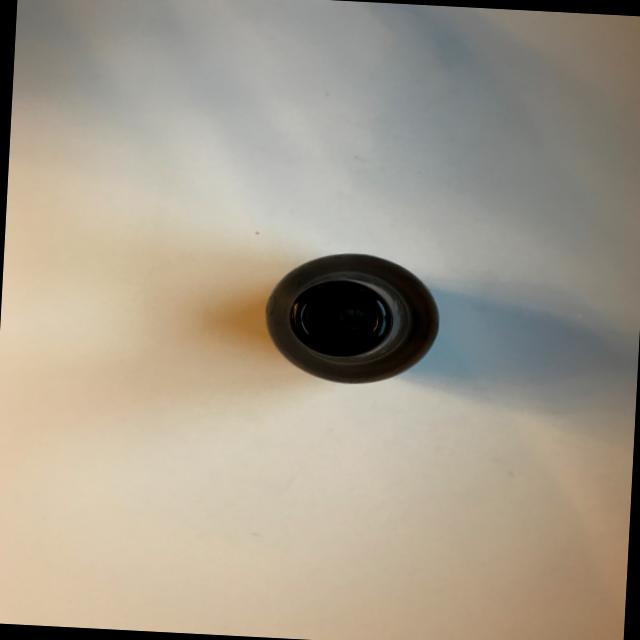Glass: (244, 237, 452, 401)
